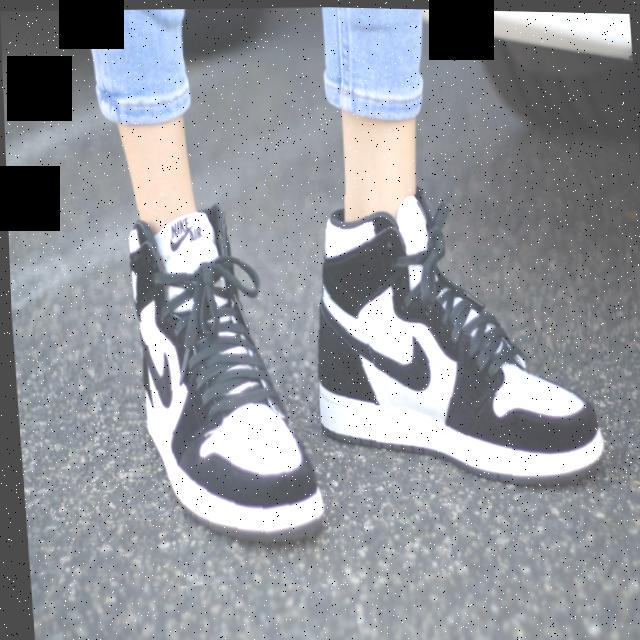shoe: (295, 166, 628, 499), (108, 178, 328, 589)
